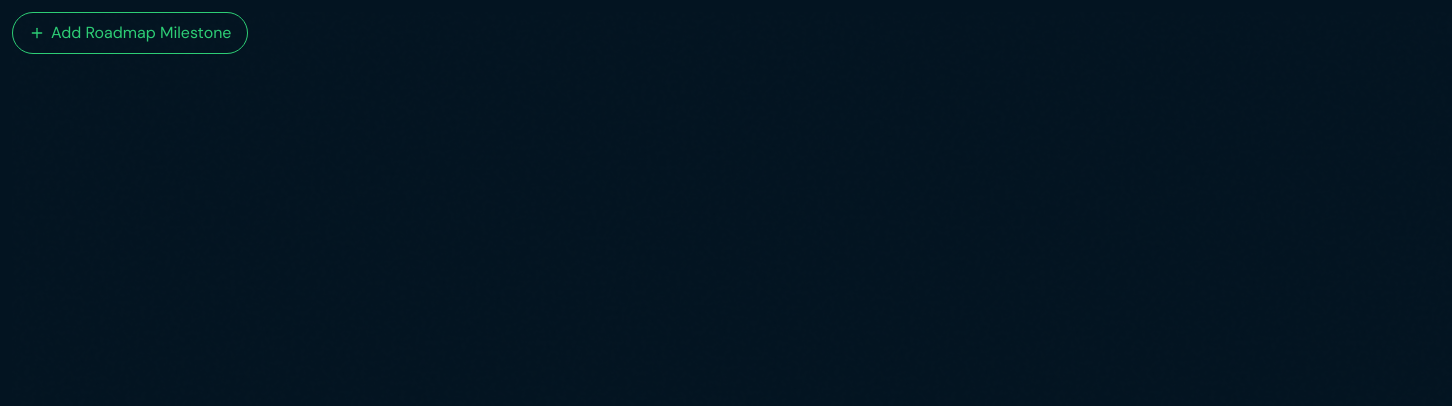
Test: AddRoadmapMilestoneForm › shows an inline error and does not call onMilestoneAdded when the write fails
The image size is (1452, 406).
Click the button "Add Roadmap Milestone" at (130, 33), box top-left (12, 12), bottom-right (248, 54)
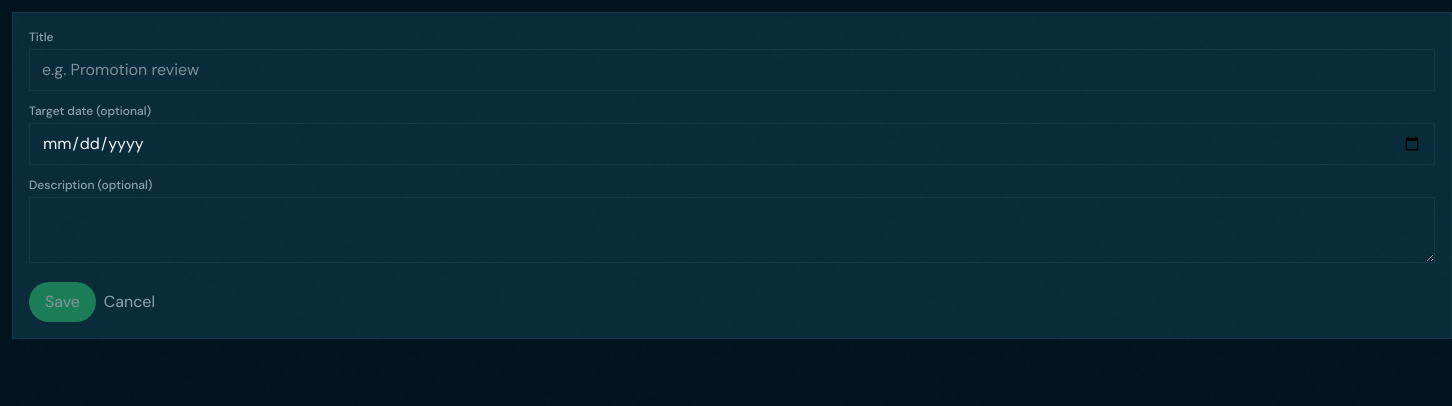
Type "Should fail" into the field labelled "Title" at (732, 70), box top-left (29, 49), bottom-right (1435, 91)
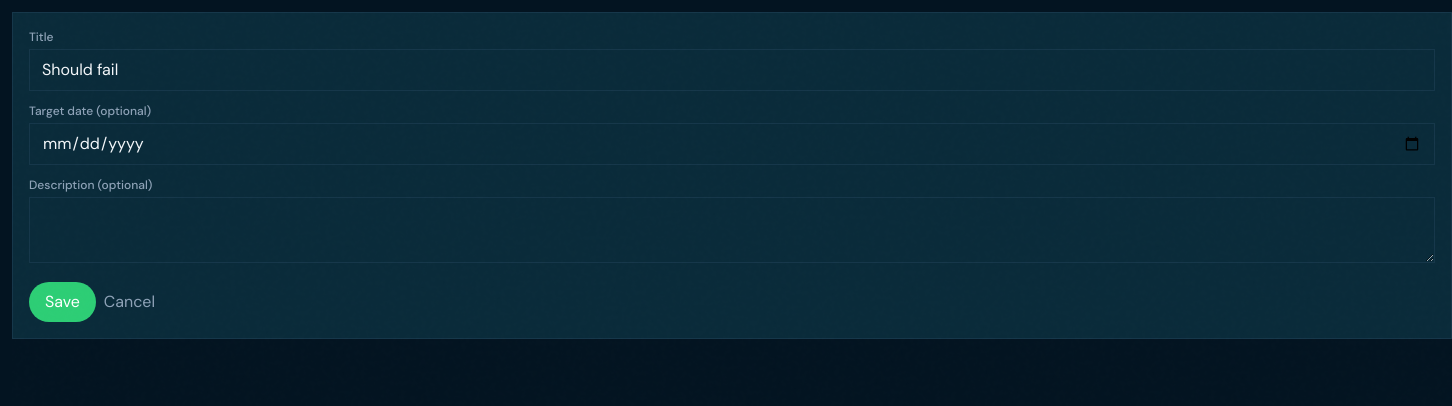
Click the button "Save" at (62, 302), box top-left (29, 282), bottom-right (96, 322)
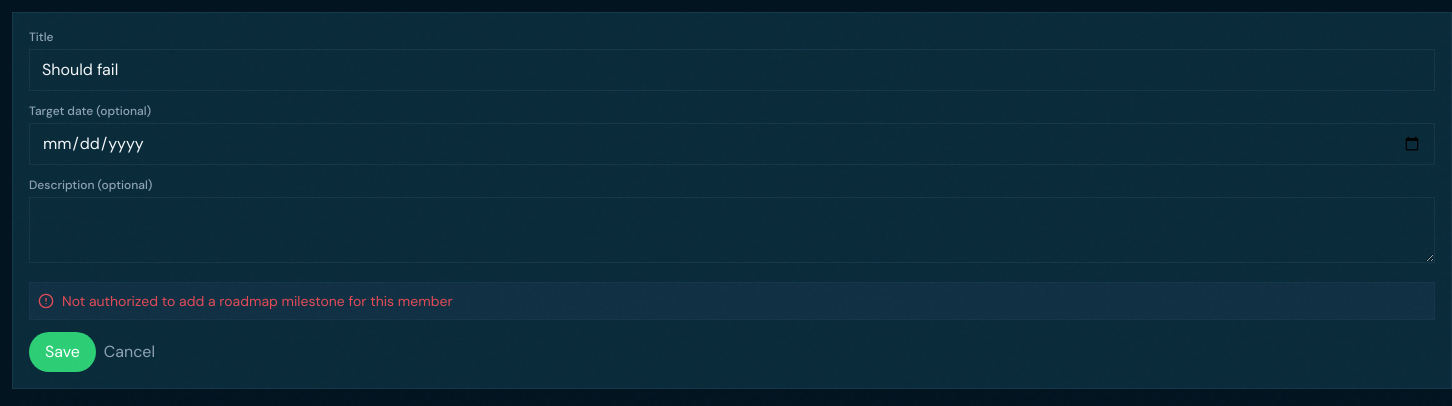
Expected: the text "Not authorized to add a roadmap milestone for this member" is shown, top-left (62, 291), bottom-right (453, 311)
